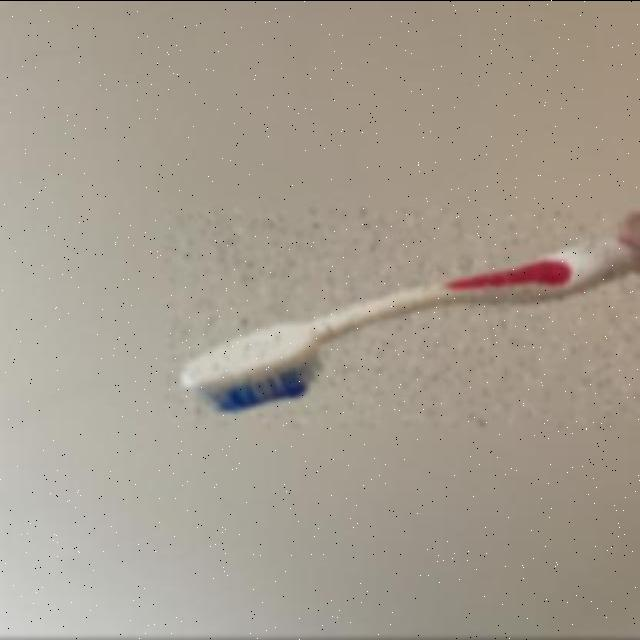toothbrush: (166, 211, 640, 427)
